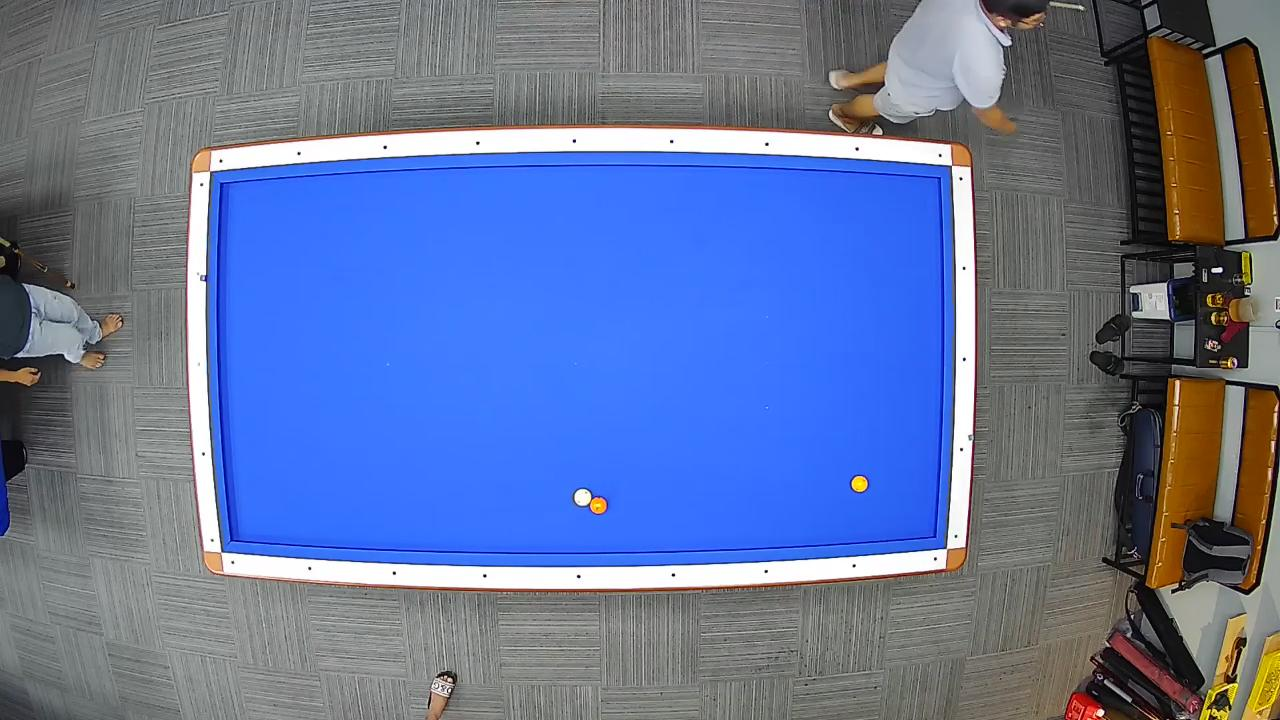Orange: (589, 496, 608, 515)
White: (572, 487, 592, 507)
Yellow: (850, 474, 869, 494)
